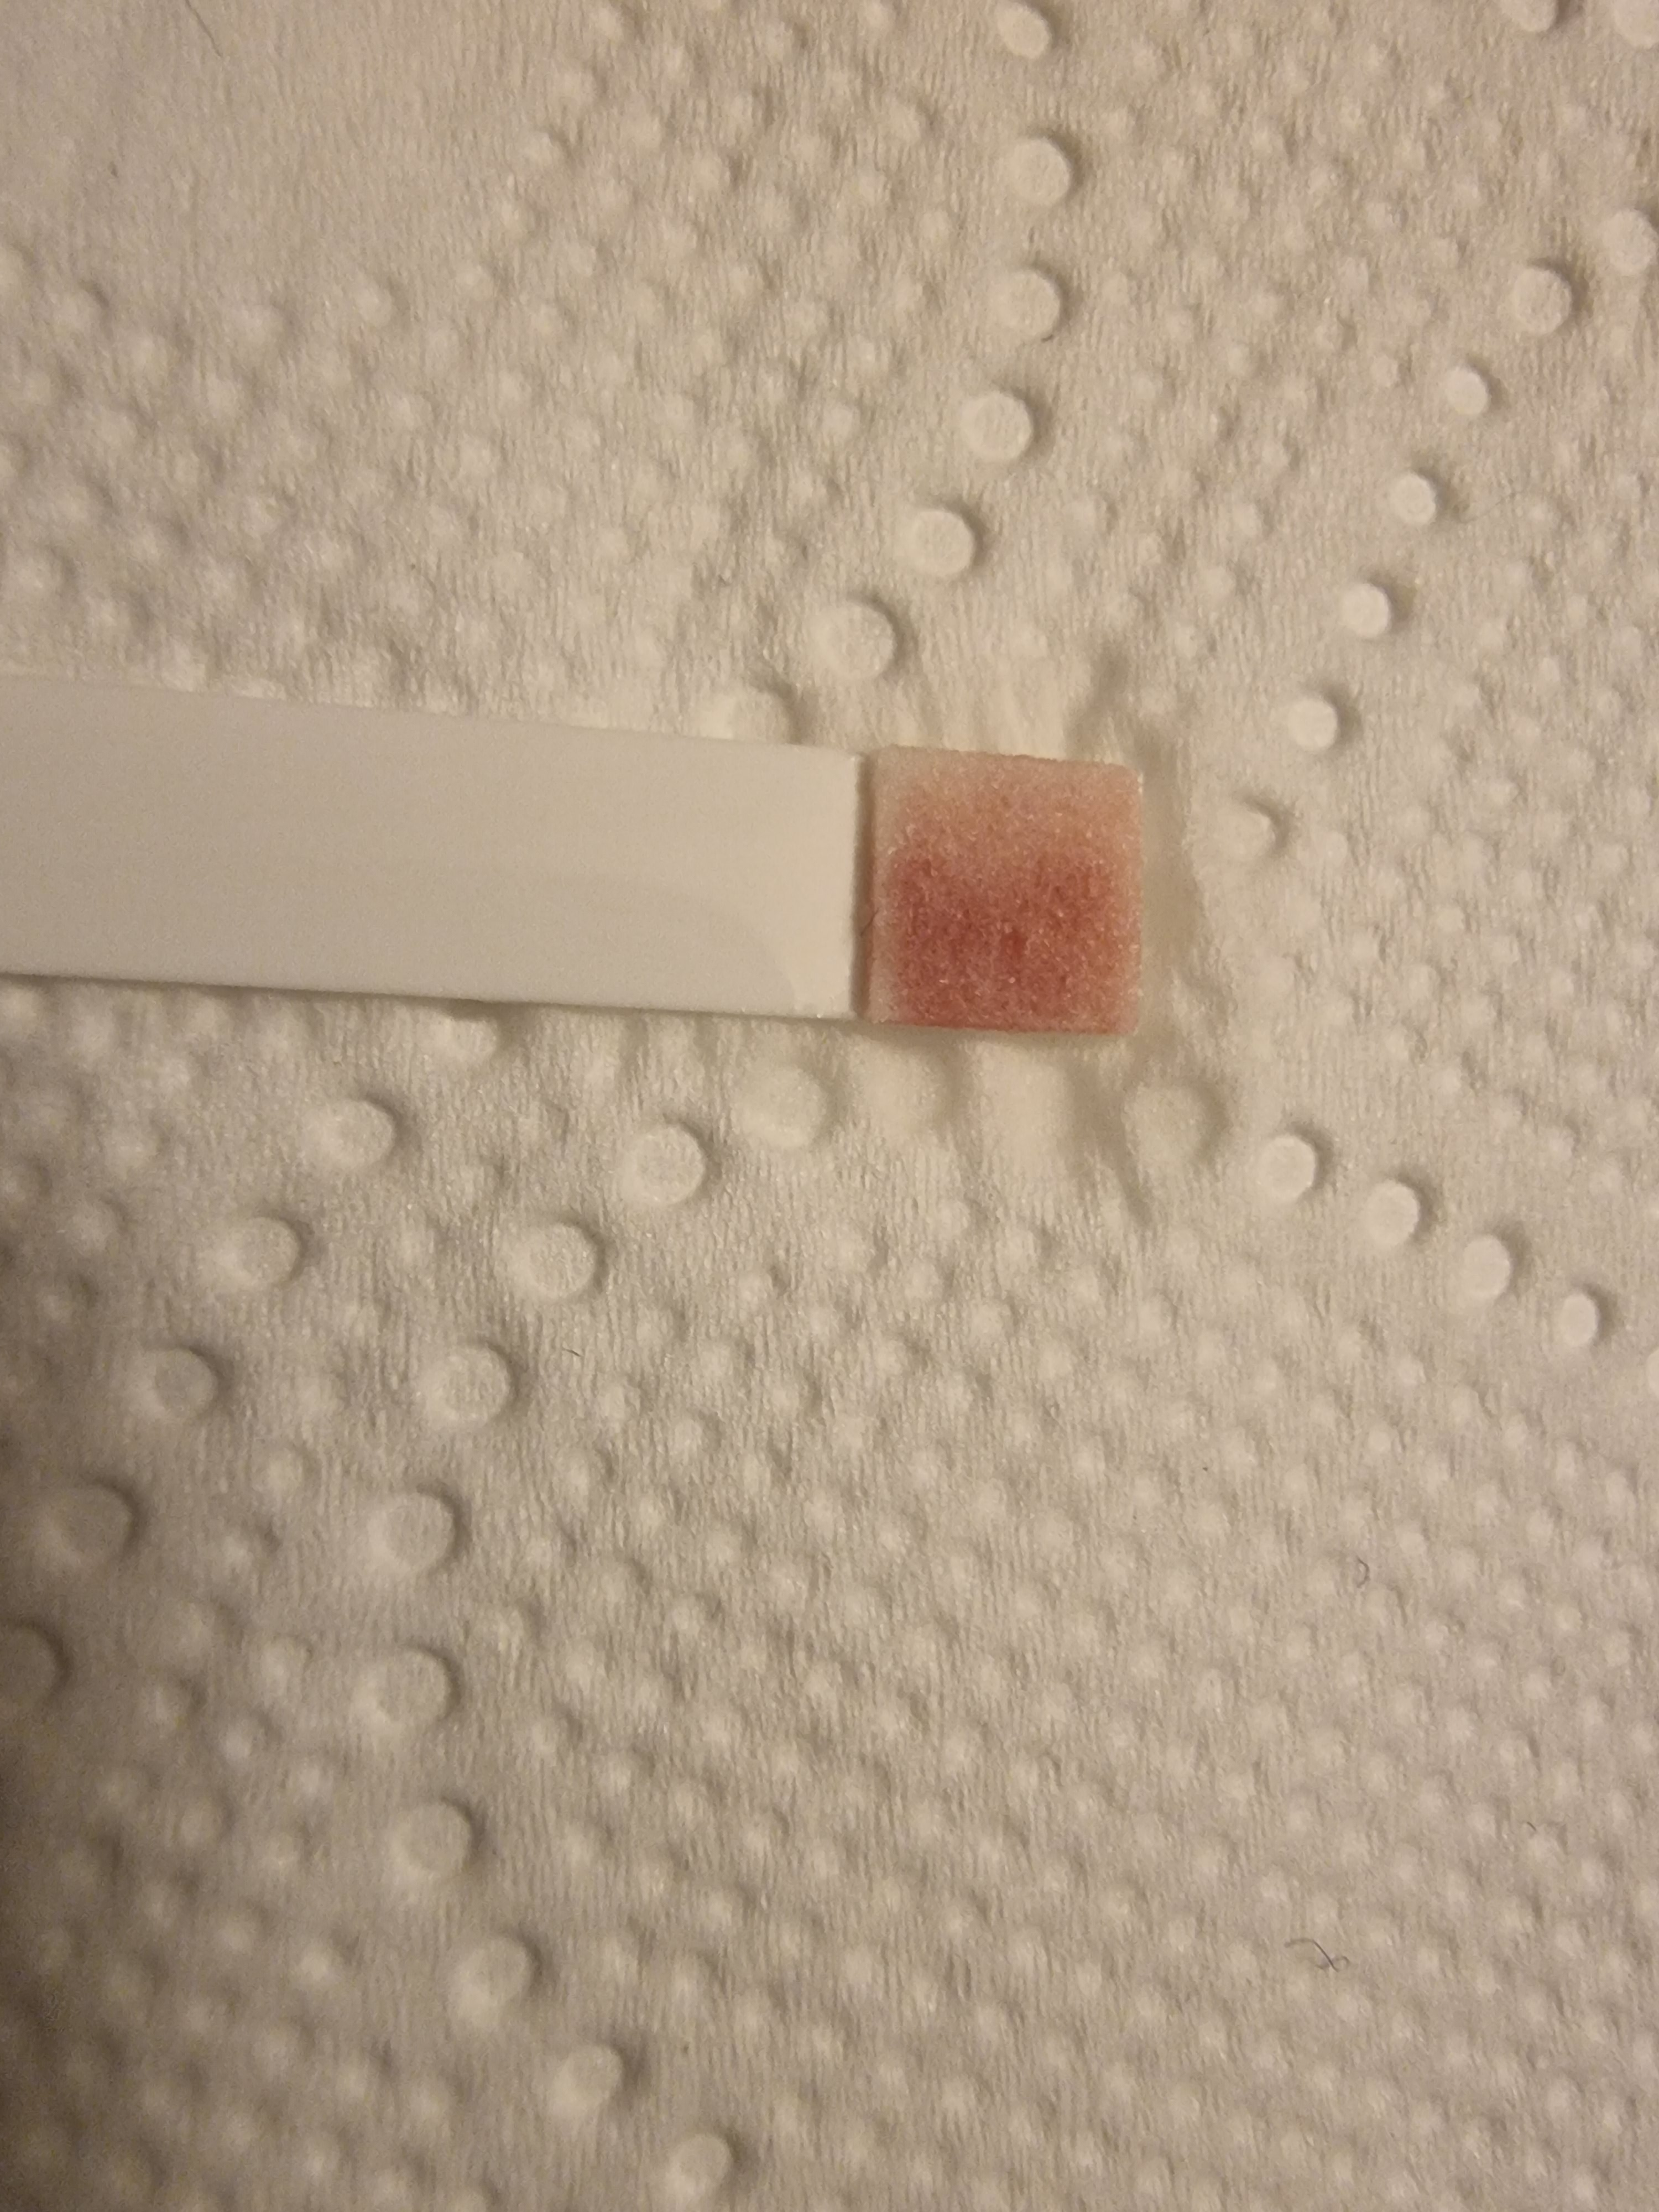keto-tip: (847, 732, 1154, 1043)
